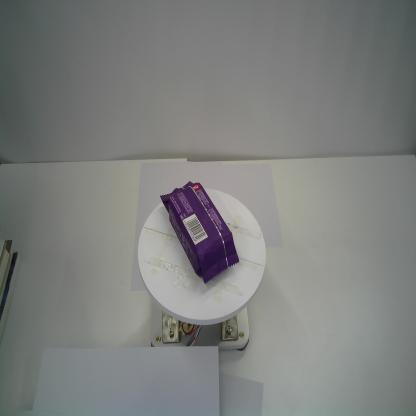Dessert: (160, 180, 240, 286)
